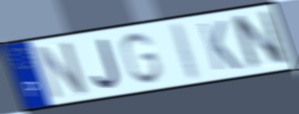G: (119, 31, 165, 86)
I: (171, 20, 203, 83)
J: (90, 36, 122, 91)
K: (196, 19, 244, 73)
N: (228, 8, 290, 73), (33, 39, 90, 102)
